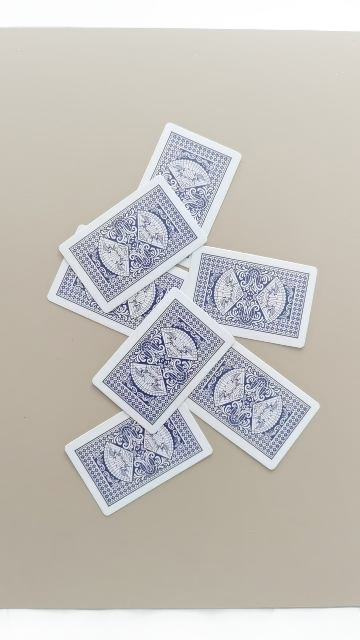card: (92, 288, 234, 432), (59, 175, 206, 312), (185, 342, 319, 469), (65, 405, 212, 515), (188, 248, 316, 348), (140, 122, 241, 235), (48, 260, 188, 335)
